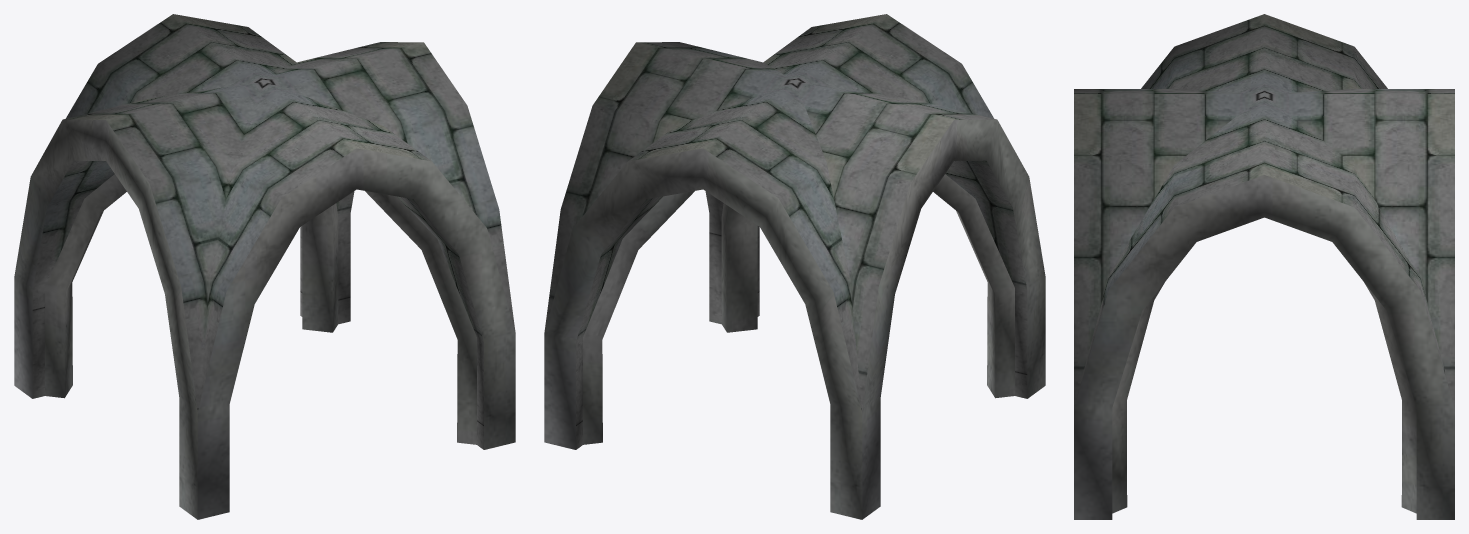
The model's file is vault_ceiling_small_01.glb.
The picture shows the model from 3 angles, left to right: view 1: azimuth 30°, elevation 25°; view 2: azimuth 150°, elevation 25°; view 3: azimuth 270°, elevation 25°; orthographic projection. The views are drawn at different scales.
Parts seen in each view (by area): view 1: vault_ceiling_small_01; view 2: vault_ceiling_small_01; view 3: vault_ceiling_small_01.
Boxes of the visible parts, box(x1,y1,x2,y2) form: vault_ceiling_small_01: box(14, 14, 515, 519); vault_ceiling_small_01: box(544, 14, 1045, 519); vault_ceiling_small_01: box(1074, 14, 1454, 519).
Size of the model in its own units: 2 by 2 by 2.
Materials: 1 (1 with a texture image).
